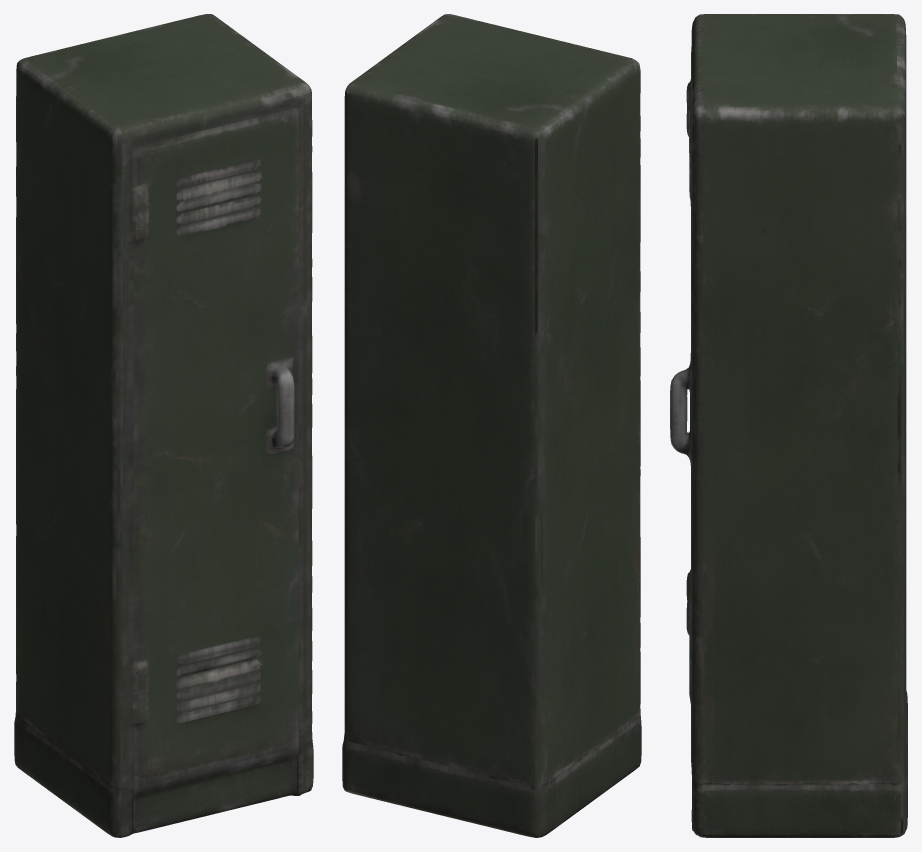
Rendered from raw.glb.
3 renders of one model, left to right at view 1: azimuth 30°, elevation 25°; view 2: azimuth 150°, elevation 25°; view 3: azimuth 270°, elevation 25°, orthographic. The views are drawn at different scales.
Size of the model in its own units: 0.3026 by 1.01 by 0.2983.
Materials: 1 (1 with a texture image).
